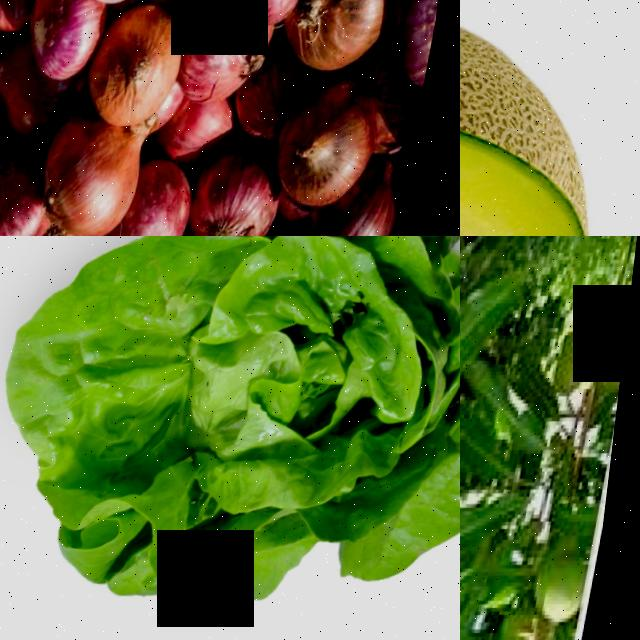lettuce: (0, 236, 460, 640)
mango: (537, 535, 600, 636)
melon: (460, 0, 640, 236)
onion: (287, 82, 392, 217), (45, 114, 159, 236), (98, 3, 197, 135), (181, 2, 279, 118), (294, 0, 420, 88), (27, 0, 114, 91), (198, 154, 292, 236), (0, 149, 67, 236), (132, 161, 209, 236), (232, 0, 319, 41), (315, 200, 413, 236)
